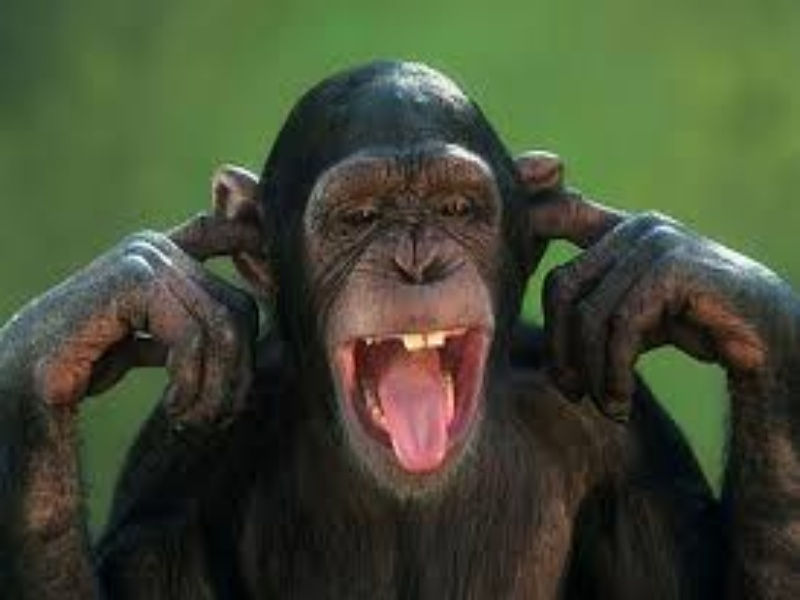monkey: (20, 1, 770, 600)
